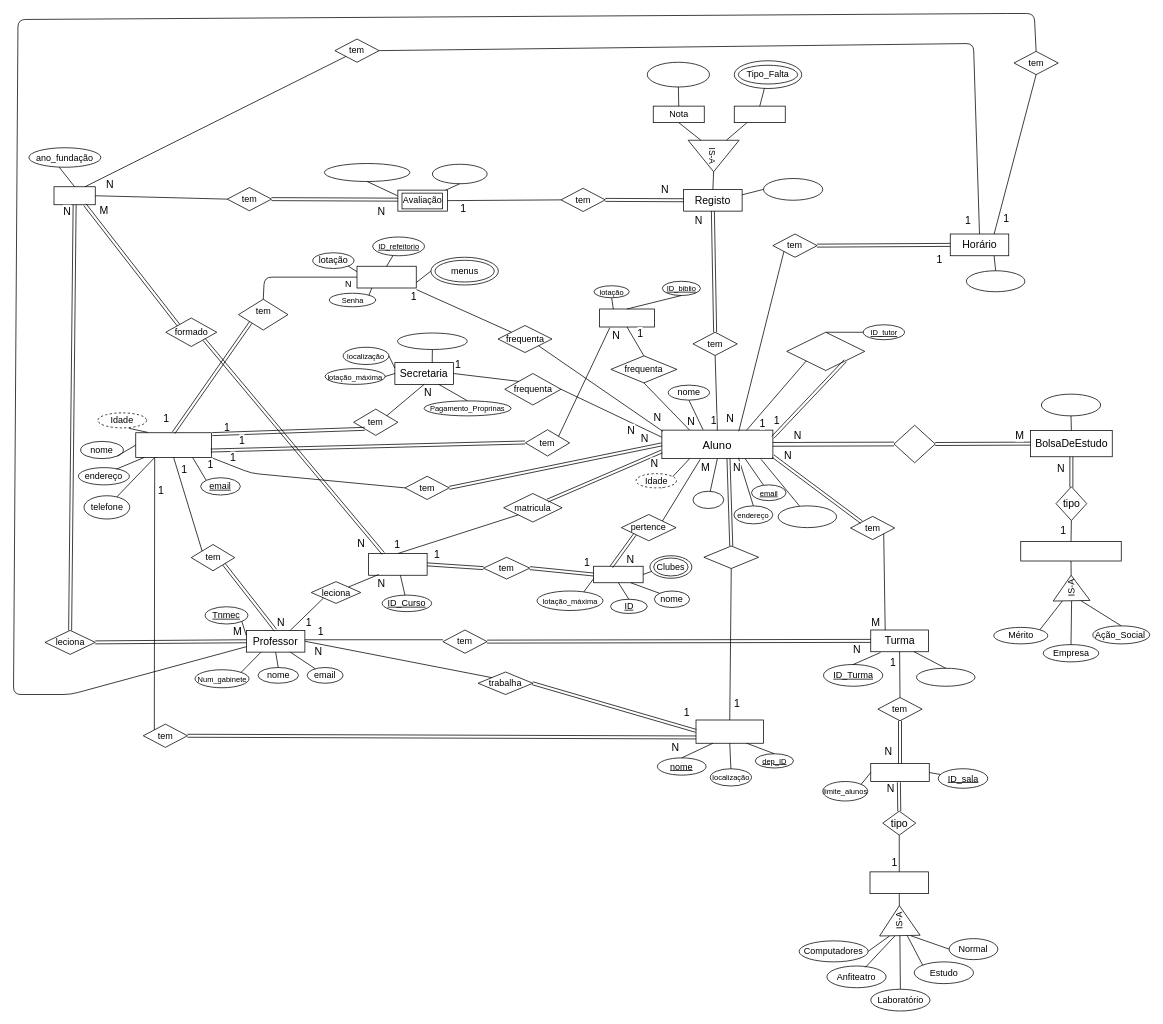
The diagram is 1163 pixels wide and 1024 high, and some of its shapes have lost their labels. Each missing label, with the centre of its shape:
"Anmec" goes at point (708, 499).
"Ano Letivo" goes at point (945, 677).
"associa" goes at point (731, 556).
"Biblioteca" goes at point (626, 317).
"classificação" goes at point (678, 74).
"Curso" goes at point (397, 564).
"Departamento" goes at point (729, 731).
"Falta" goes at point (759, 114).
"ID_Aval" goes at point (459, 174).
"ID_bolsa" goes at point (1071, 404).
"ID_Horario" goes at point (995, 281).
"ID_Registo" goes at point (793, 189).
"ID_secretaria" goes at point (432, 341).
"Núcleo" goes at point (618, 574).
"Percentagem_Final" goes at point (367, 172).
"Refeitório" goes at point (386, 277).
"regimeEstudo" goes at point (807, 516).
"Sala" goes at point (899, 772).
"Tipo_BolsaDeEstudo" goes at point (1070, 551).
"Tipo_Sala" goes at point (898, 882).
"Tutor" goes at point (825, 351).
"UC" goes at point (74, 195).
"Universidade" goes at point (173, 445).
"usufrui" goes at point (914, 443).
